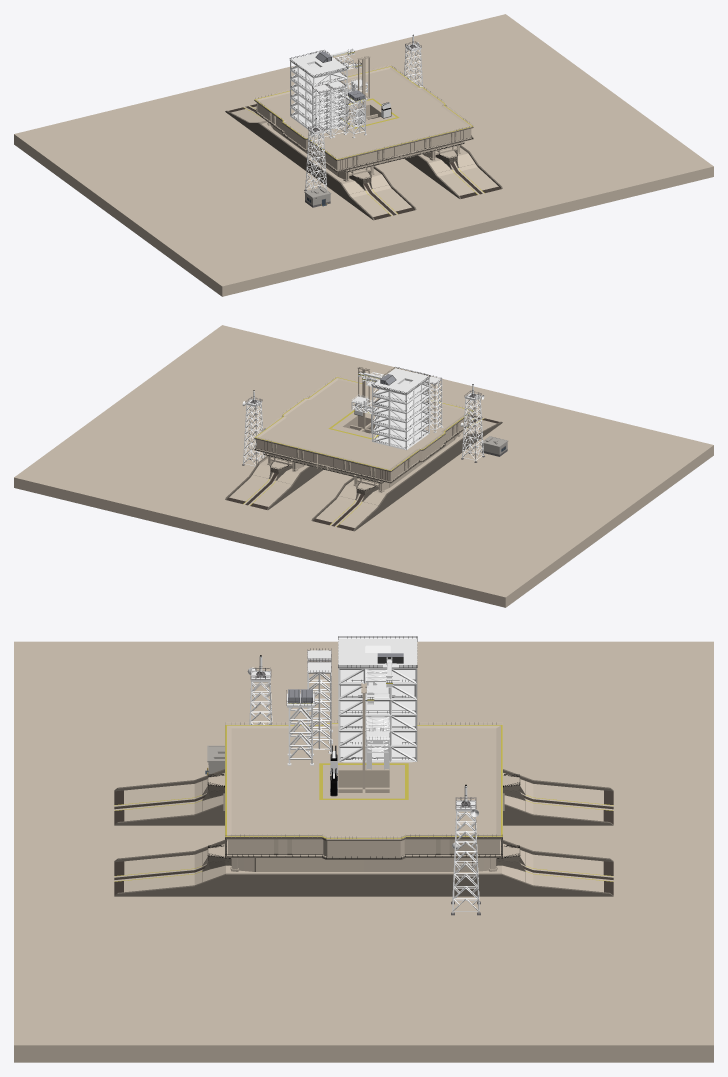
File: space-shuttle-launching-platform-fss-raw.glb
The picture shows the model from 3 angles, top to bottom: view 1: azimuth 30°, elevation 25°; view 2: azimuth 150°, elevation 25°; view 3: azimuth 270°, elevation 25°; orthographic projection. The views are drawn at different scales.
Visible parts, largest first — view 1: Launch Infrastructure, Launching Tower, Tower : 1, Plane Tower 2, Plane Tower 1; view 2: Launch Infrastructure, Launching Tower, Tower : 1, Plane Tower 1; view 3: Launch Infrastructure, Launching Tower, Tower : 1, Plane Tower 2, Plane Tower 1.
Part boxes in pixels (x1=…): Launch Infrastructure: x1=14, y1=14, x2=713, y2=296; Launching Tower: x1=289, y1=49, x2=391, y2=138; Tower : 1: x1=304, y1=34, x2=422, y2=190; Plane Tower 2: x1=326, y1=80, x2=346, y2=137; Plane Tower 1: x1=312, y1=83, x2=332, y2=141; Launch Infrastructure: x1=14, y1=325, x2=713, y2=607; Launching Tower: x1=351, y1=367, x2=430, y2=450; Tower : 1: x1=242, y1=384, x2=484, y2=466; Plane Tower 1: x1=423, y1=375, x2=443, y2=432; Launch Infrastructure: x1=14, y1=641, x2=713, y2=1062; Launching Tower: x1=286, y1=636, x2=417, y2=796; Tower : 1: x1=247, y1=655, x2=480, y2=915; Plane Tower 2: x1=306, y1=660, x2=332, y2=753; Plane Tower 1: x1=306, y1=648, x2=332, y2=741.
Size of the model in its own units: 275 by 57.42 by 201.
